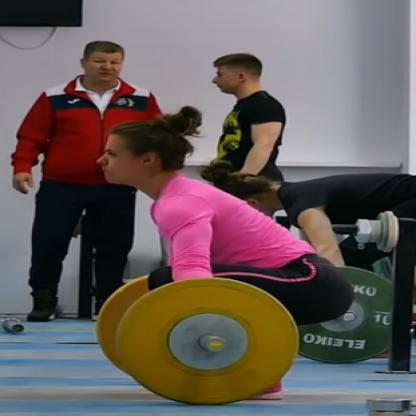barbell: (96, 272, 300, 406), (296, 264, 396, 366)
